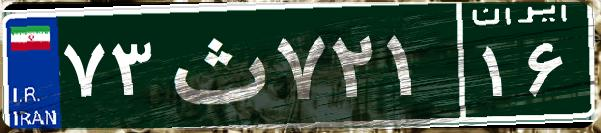1: (385, 28, 445, 110), (475, 38, 525, 113)
2: (330, 28, 385, 110)
3: (110, 28, 158, 105)
6: (525, 38, 570, 115)
7: (273, 28, 330, 110), (57, 26, 110, 107)
ث: (158, 15, 273, 115)
